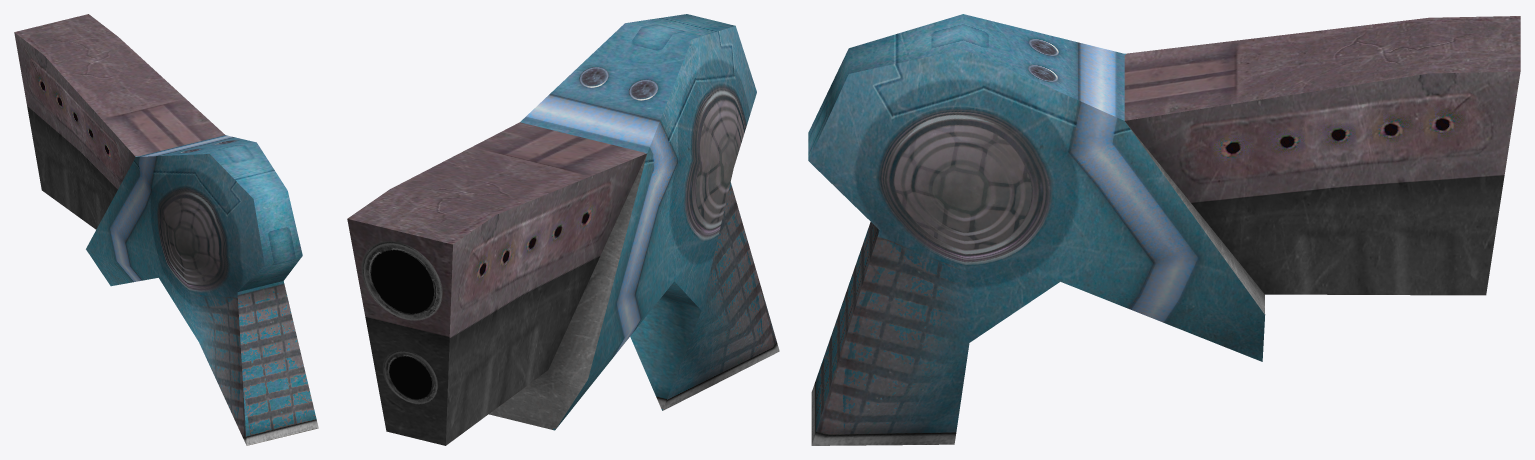
The model's file is afps_2.glb.
The picture shows the model from 3 angles, left to right: view 1: azimuth 30°, elevation 25°; view 2: azimuth 150°, elevation 25°; view 3: azimuth 270°, elevation 25°; orthographic projection. The views are drawn at different scales.
Parts seen in each view (by area): view 1: weapon2; view 2: weapon2; view 3: weapon2.
Part boxes in pixels (x1,y1,x2,y2): weapon2: (14,14,318,445); weapon2: (347,14,779,445); weapon2: (808,14,1520,445).
Bounding box in the file's own units: 0.1448 × 0.352 × 0.55.
1 material, 1 textured.
